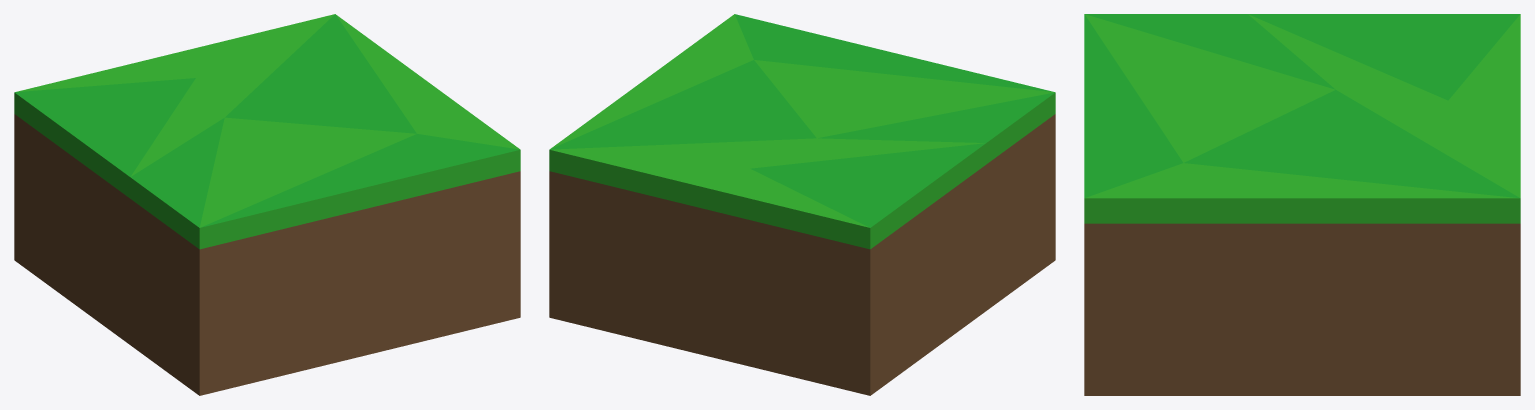
The model's file is IsoGrass.fbx.
3 renders of one model, left to right at view 1: azimuth 30°, elevation 25°; view 2: azimuth 150°, elevation 25°; view 3: azimuth 270°, elevation 25°, orthographic. The views are drawn at different scales.
Parts seen in each view (by area): view 1: Cube; view 2: Cube; view 3: Cube.
Boxes of the visible parts, <box> form: Cube: <box>14,14,520,395</box>; Cube: <box>549,14,1055,395</box>; Cube: <box>1084,14,1520,395</box>.
Bounding box in the file's own units: 2 × 1 × 2.
